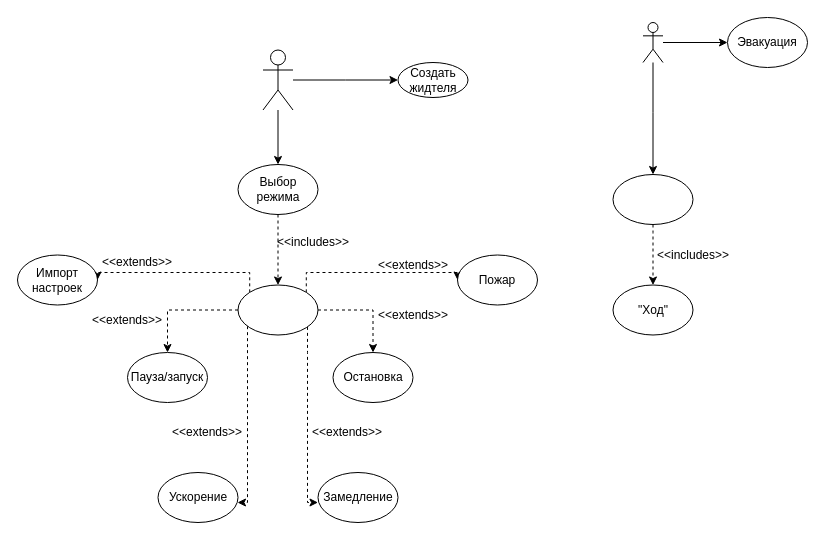
Some shapes in this 825 by 540 pixel diagram are drawn without their labels. The shapes that lost their labels are listed below. From the top down, each one's box as (x1, y1, x2, y2) in pixels, then its label:
(642, 22, 663, 62): Жидтель
(262, 49, 293, 110): Босс
(612, 174, 693, 224): Выбрать этаж
(237, 284, 318, 335): Старт
